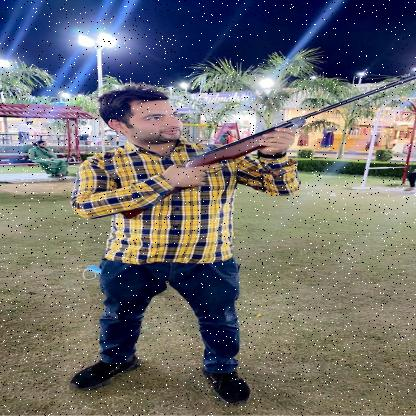rifle: (105, 75, 415, 223)
